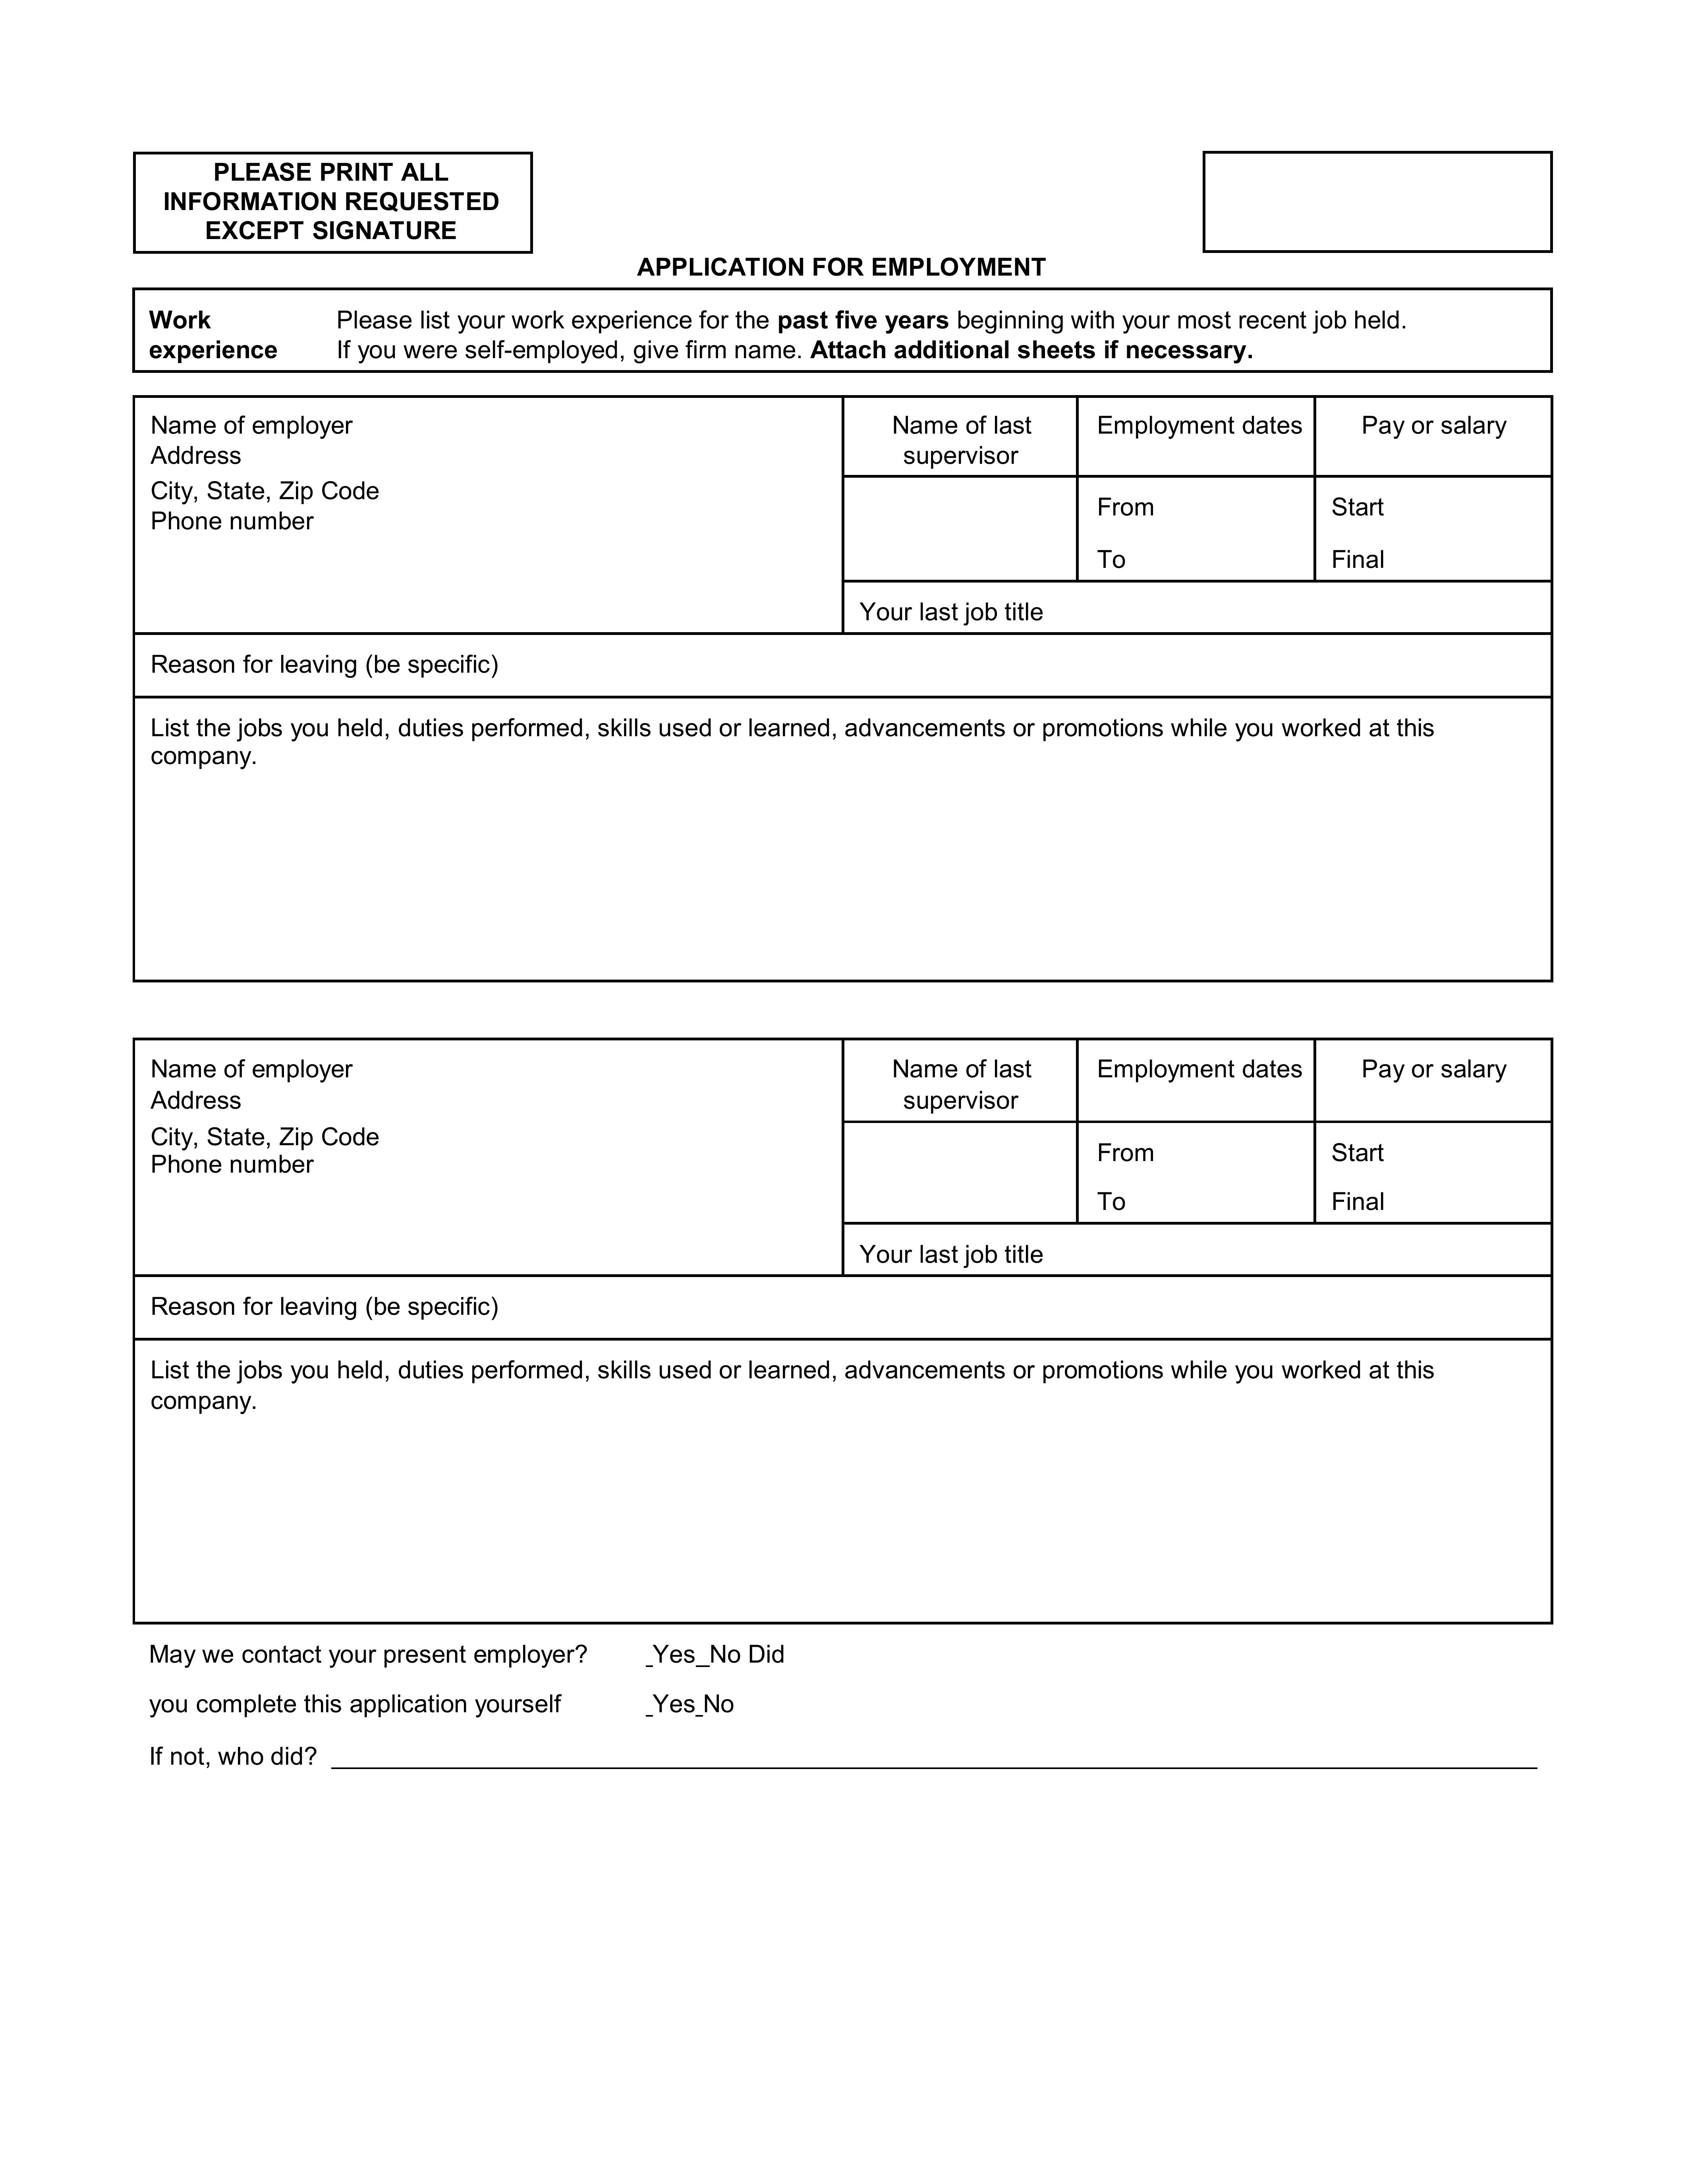table: (133, 397, 1548, 980), (135, 1041, 1553, 1620), (135, 289, 1553, 371)
